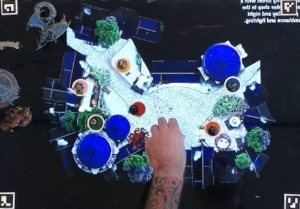blue: (223, 75, 243, 93)
green: (87, 112, 107, 132)
orange: (205, 119, 222, 136)
pink: (71, 77, 90, 96)
red: (127, 99, 149, 117)
yellow: (114, 55, 131, 72)
